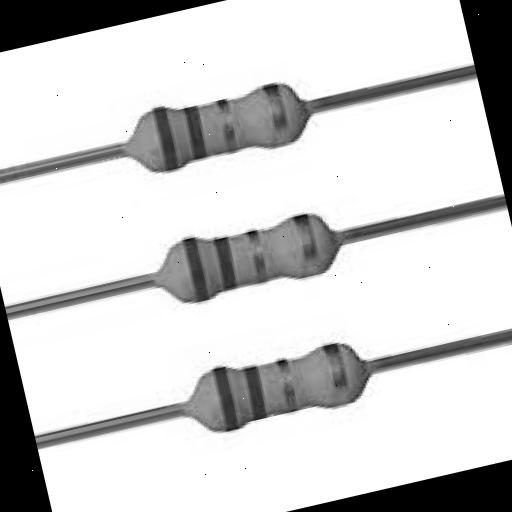RESISTOR: (110, 260, 497, 512), (76, 172, 386, 370), (91, 40, 355, 241)
